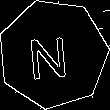N_N: (31, 27, 76, 81)
